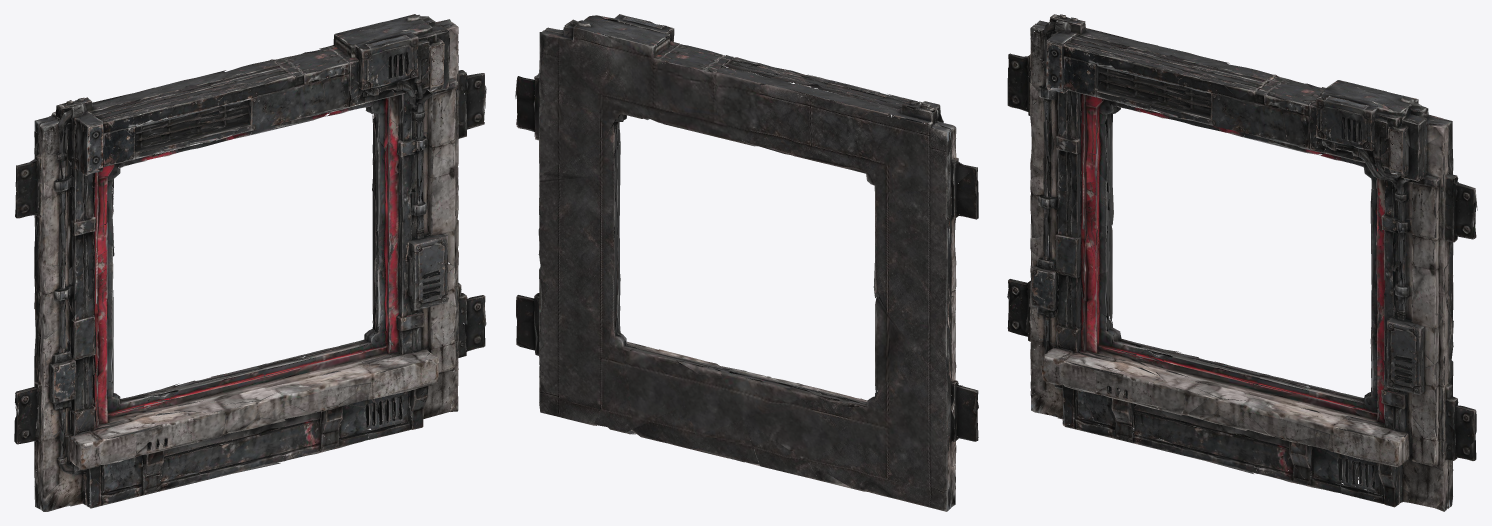
Rendered from window_a.glb.
3 views of the same model, side by side, from view 1: azimuth 30°, elevation 25°; view 2: azimuth 150°, elevation 25°; view 3: azimuth 330°, elevation 25° (orthographic).
Parts seen in each view (by area): view 1: Mesh_0; view 2: Mesh_0; view 3: Mesh_0.
Boxes of the visible parts, left/top/right/bottom form: Mesh_0: left=14, top=14, right=486, bottom=511; Mesh_0: left=515, top=14, right=978, bottom=511; Mesh_0: left=1007, top=14, right=1477, bottom=511.
Bounding box in the file's own units: 2.3 × 1.89 × 0.22.
Materials: 1 (1 with a texture image).
